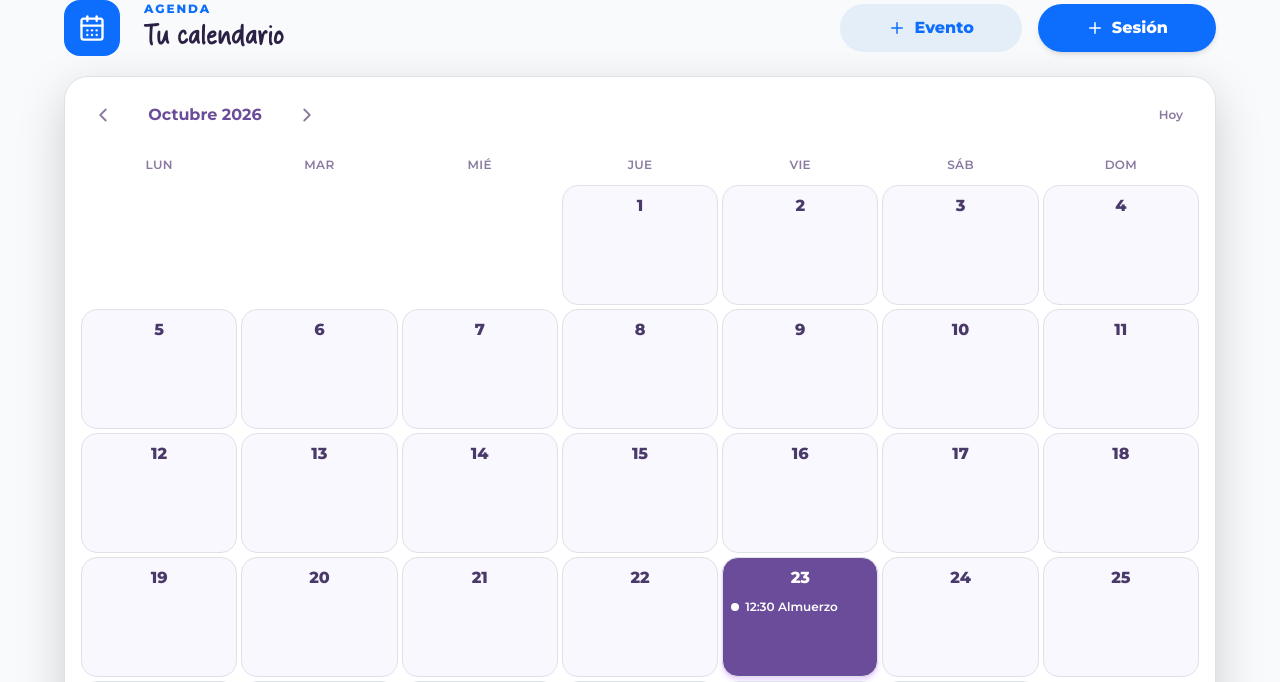
Test: ProfessionalCalendar › con más de 4 pacientes muestra 4 chips + 'Ver más' y elige desde el mini modal con buscador
The image size is (1280, 682).
Click the button "Sesión" at (1127, 28), box 1038,4 -> 1216,52
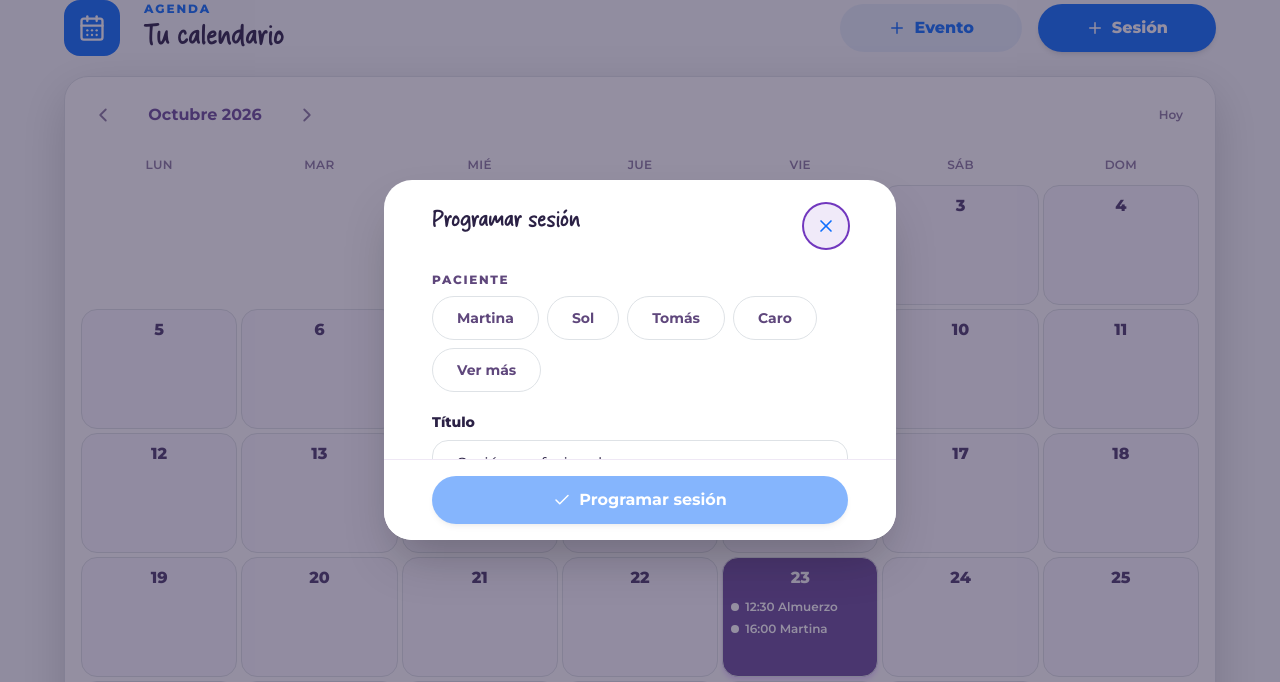
Check: the button "Joel" is not shown
Click the button "Ver más" at (487, 370), box 432,348 -> 541,392
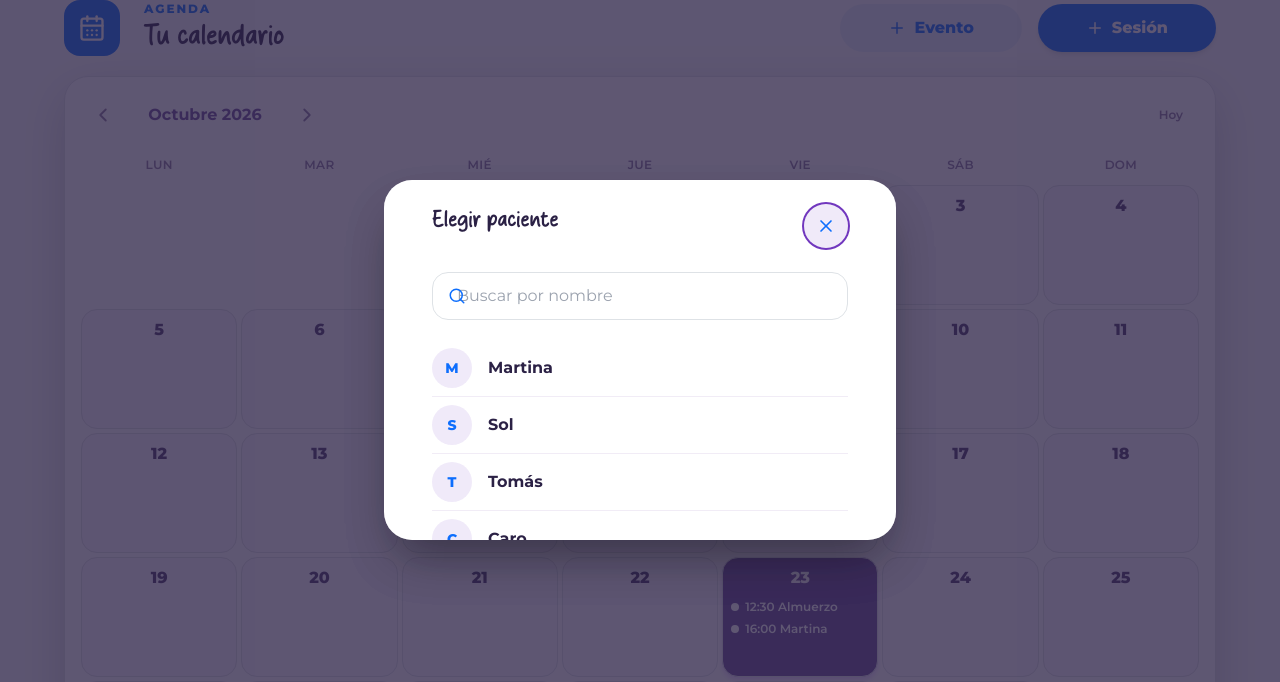
Type "alvaro" into the field named "Buscar paciente" at (640, 296), box 432,272 -> 848,320
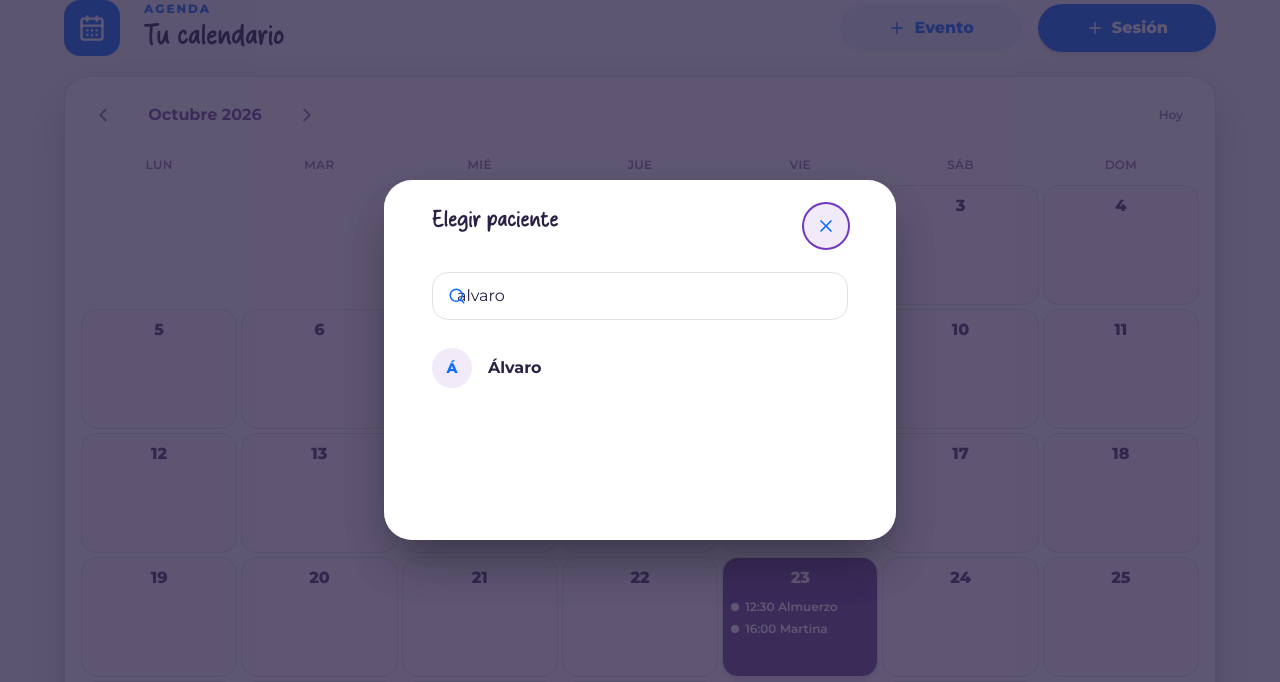
Check: the text "Joel" is not shown
Click the button "Á Álvaro" at (452, 368), box 432,340 -> 848,396
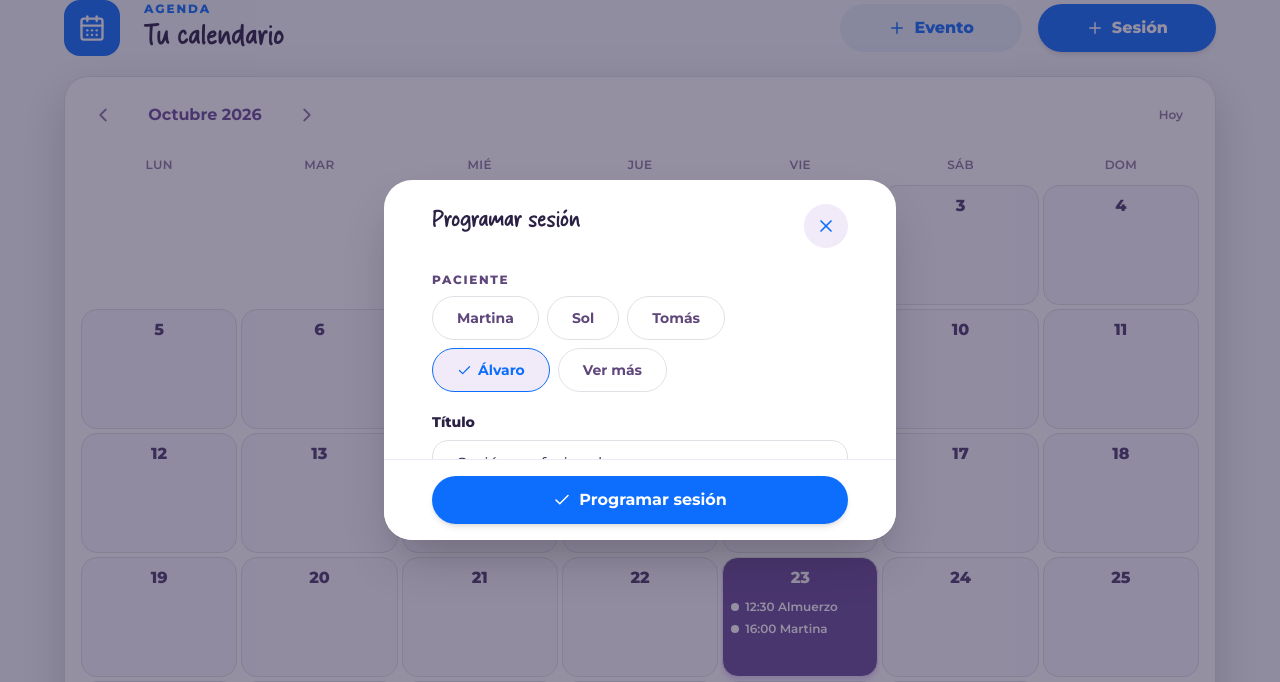
Check: the number of dialogs is 1, box 384,180 -> 896,540
Check: the button "Caro" is gone
